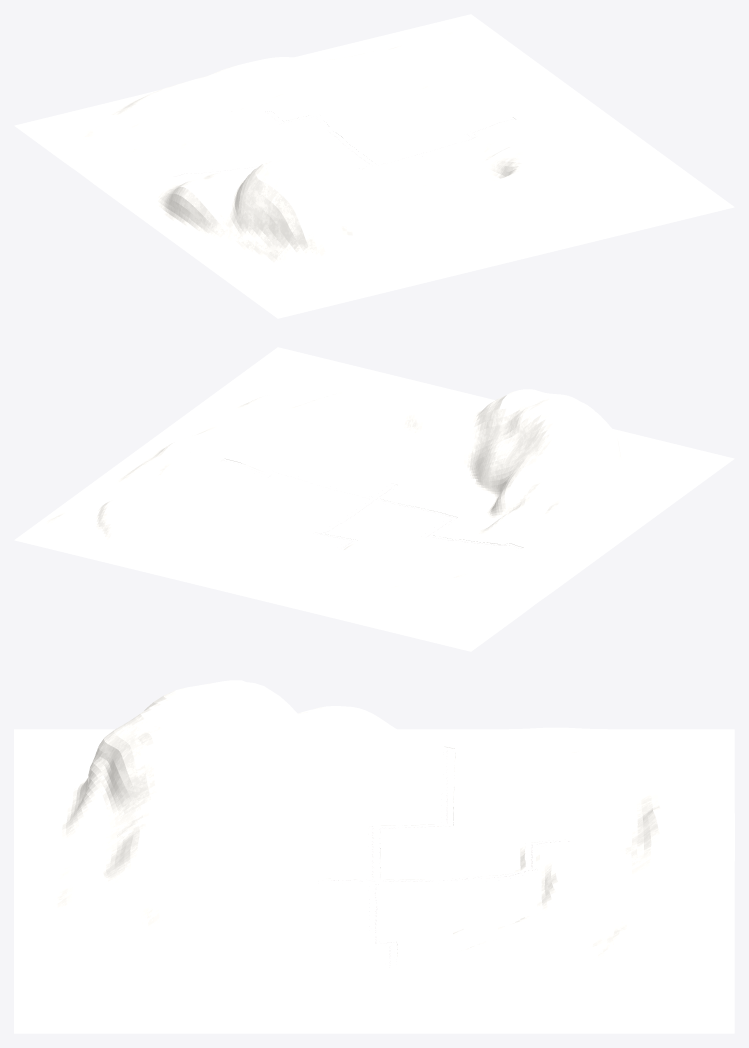
The model's file is Floor.glb.
The picture shows the model from 3 angles, top to bottom: view 1: azimuth 30°, elevation 25°; view 2: azimuth 150°, elevation 25°; view 3: azimuth 270°, elevation 25°; orthographic projection. The views are drawn at different scales.
Visible parts, largest first — view 1: Plane029; view 2: Plane029; view 3: Plane029.
Part boxes in pixels (x1,y1,x2,y2): Plane029: (14, 14, 734, 318); Plane029: (14, 347, 734, 651); Plane029: (14, 680, 734, 1033).
Bounding box in the file's own units: 633 × 104 × 632.
2 materials, 2 textured.
